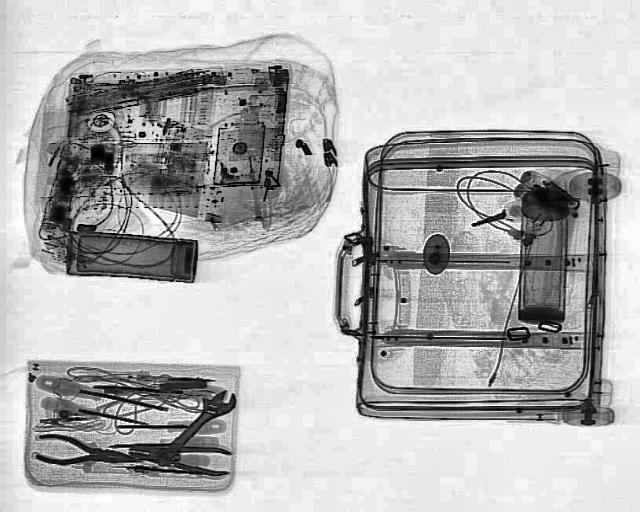Pliers: (32, 431, 142, 473), (126, 435, 234, 477)
Wrench: (146, 382, 244, 470)
